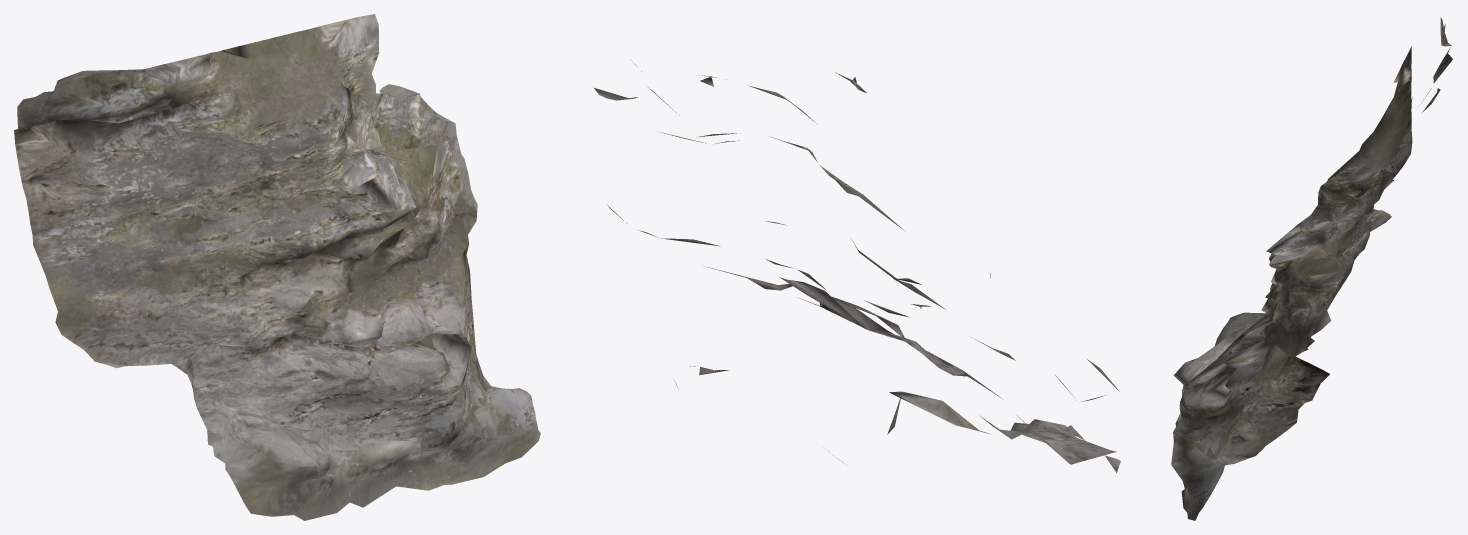
File: cliff_b_lod2.glb
3 views of the same model, side by side, from view 1: azimuth 30°, elevation 25°; view 2: azimuth 150°, elevation 25°; view 3: azimuth 270°, elevation 25° (orthographic). The views are drawn at different scales.
Parts seen in each view (by area): view 1: cliff_b_lod2; view 2: cliff_b_lod2; view 3: cliff_b_lod2.
Boxes of the visible parts, box(x1,y1,x2,y2) form: cliff_b_lod2: box(14, 14, 540, 520); cliff_b_lod2: box(594, 59, 1120, 472); cliff_b_lod2: box(1171, 17, 1452, 520).
Size of the model in its own units: 28.01 by 25.61 by 18.17.
1 material, 1 textured.
